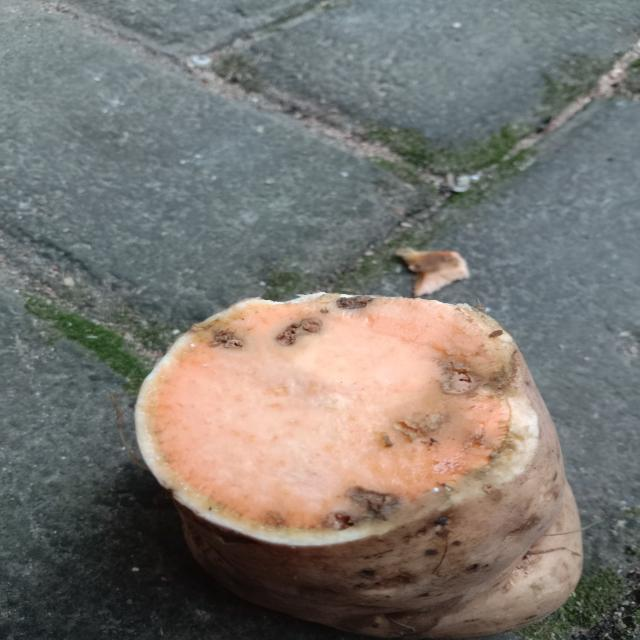Sick Sweet Potato_Tuber Rot: (137, 294, 538, 542)
